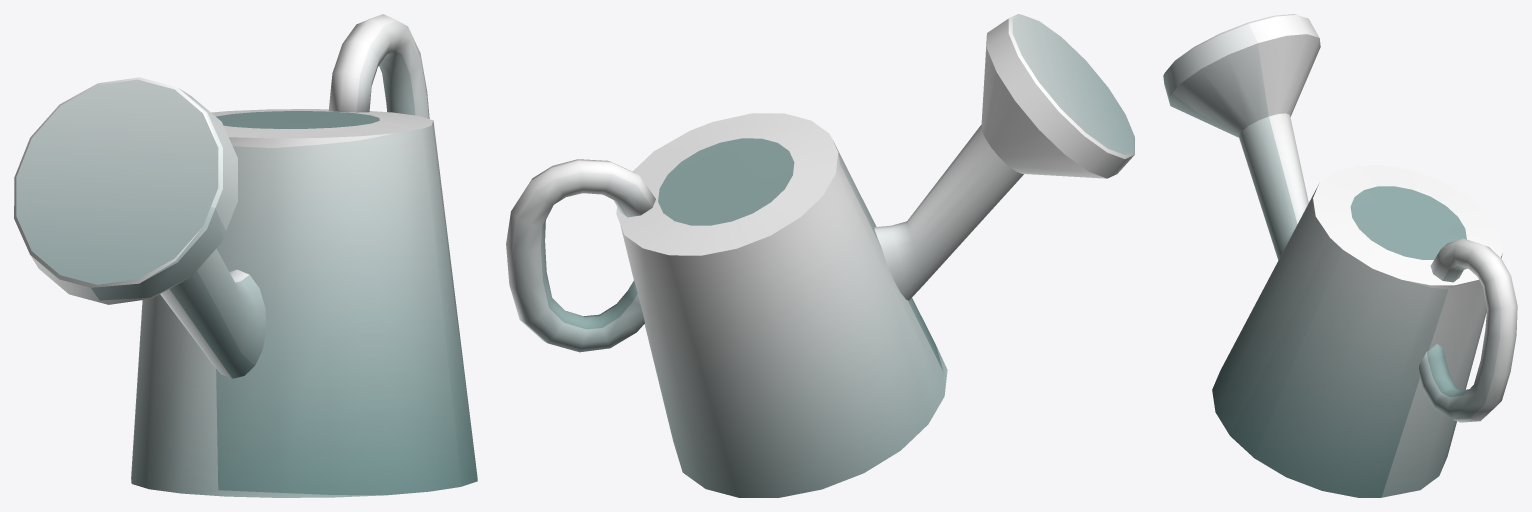
Rendered from Diligence_WateringCan.fbx.
The picture shows the model from 3 angles, left to right: view 1: azimuth 30°, elevation 25°; view 2: azimuth 150°, elevation 25°; view 3: azimuth 270°, elevation 25°; orthographic projection. The views are drawn at different scales.
Visible parts, largest first — view 1: Diligence_WateringCan; view 2: Diligence_WateringCan; view 3: Diligence_WateringCan.
Part boxes in pixels (bbox=[...]): Diligence_WateringCan: bbox=[14, 14, 477, 497]; Diligence_WateringCan: bbox=[506, 14, 1134, 497]; Diligence_WateringCan: bbox=[1163, 14, 1517, 497].
Size of the model in its own units: 16.28 by 14.42 by 12.41.
